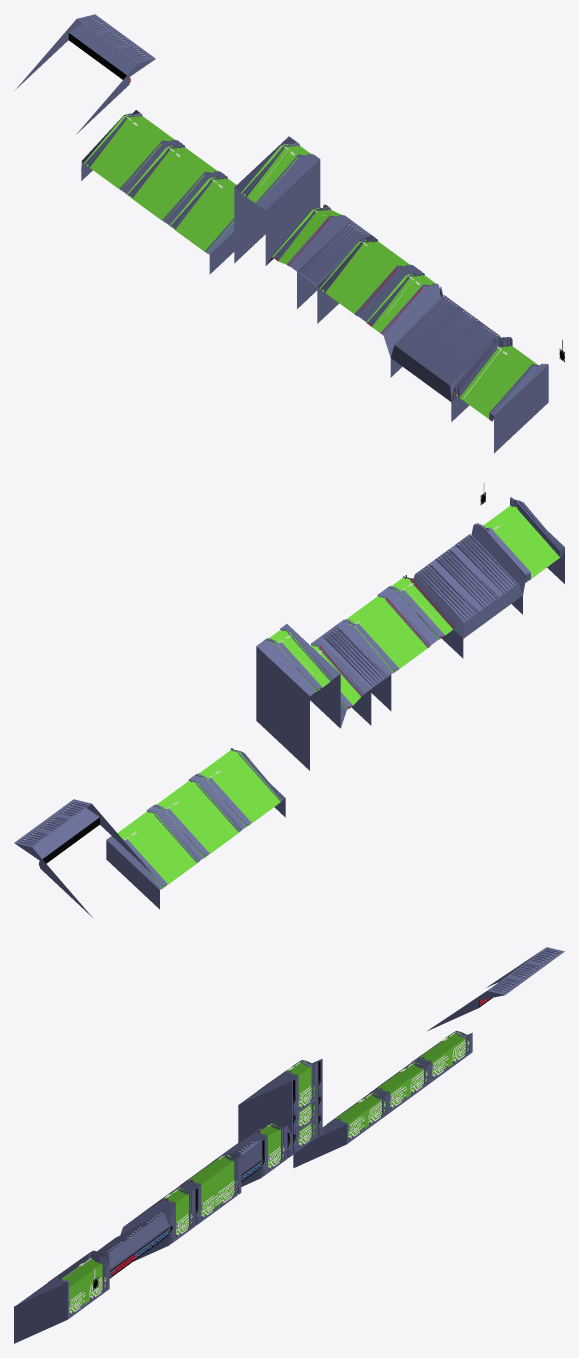
File: Lightning-OPTION_2.glb
3 views of the same model, one above another, from view 1: azimuth 30°, elevation 25°; view 2: azimuth 150°, elevation 25°; view 3: azimuth 330°, elevation 25° (orthographic).
Parts seen in each view (by area): view 1: platform; view 2: platform; view 3: platform.
Part boxes in pixels (left/top/right/bottom): platform: left=14, top=14, right=548, bottom=453; platform: left=14, top=497, right=564, bottom=917; platform: left=14, top=947, right=564, bottom=1343.
Bounding box in the file's own units: 2.59 × 4.38 × 26.53.
